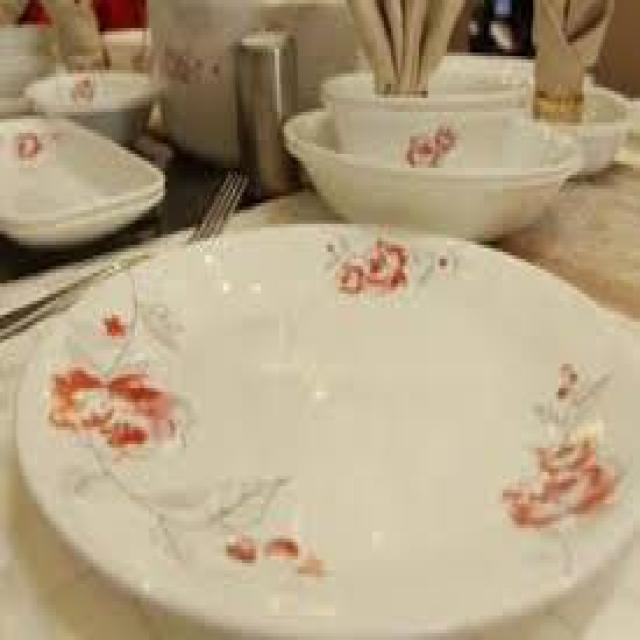Plate: (12, 210, 640, 640)
